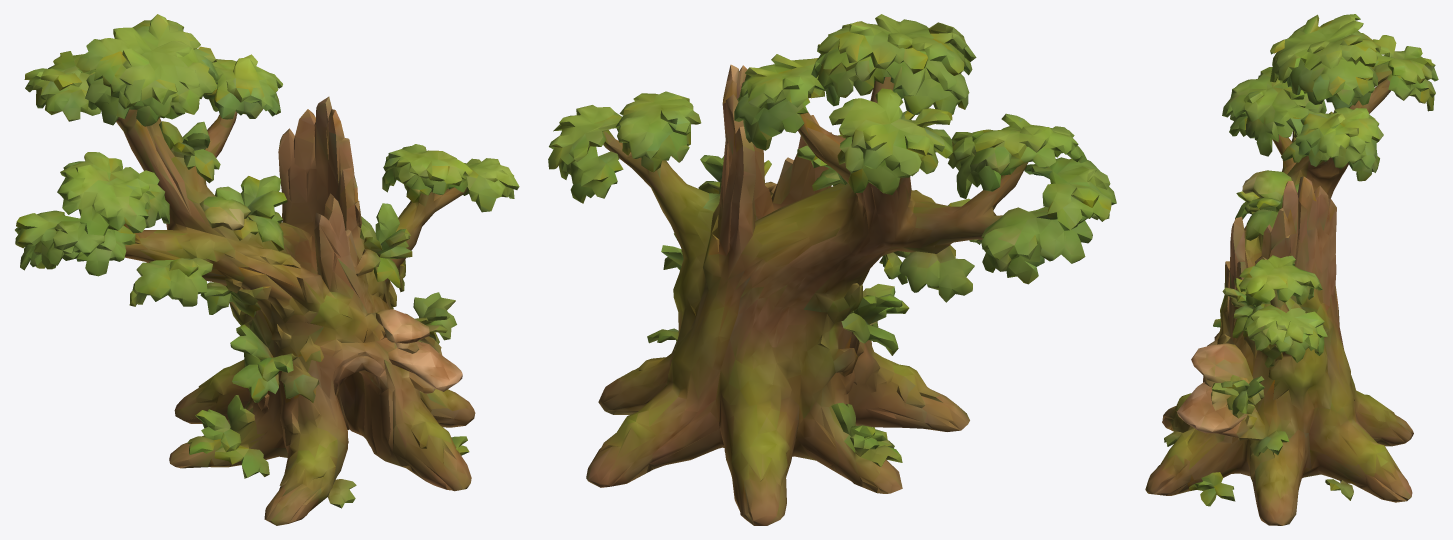
Rendered from arbol_viejo.glb.
The picture shows the model from 3 angles, left to right: view 1: azimuth 30°, elevation 25°; view 2: azimuth 150°, elevation 25°; view 3: azimuth 270°, elevation 25°; orthographic projection. The views are drawn at different scales.
Visible parts, largest first — view 1: arbol_viejo_malla; view 2: arbol_viejo_malla; view 3: arbol_viejo_malla.
Boxes of the visible parts, x1,y1,x2,y2 form: arbol_viejo_malla: [15, 14, 519, 525]; arbol_viejo_malla: [548, 14, 1116, 525]; arbol_viejo_malla: [1145, 14, 1438, 525].
Bounding box in the file's own units: 0.3911 × 0.3302 × 0.2317.
Materials: 1 (1 with a texture image).
